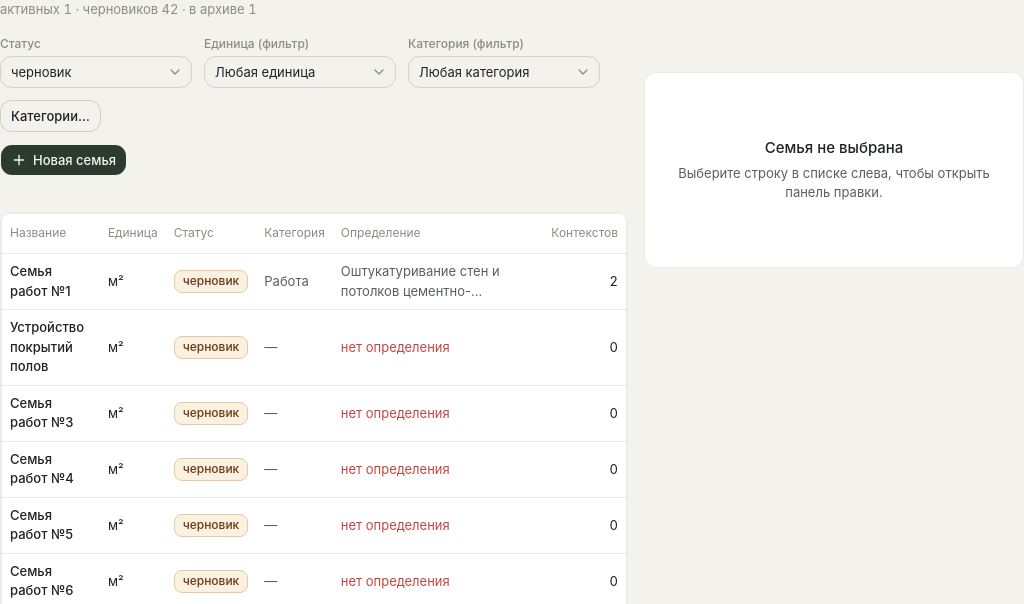
Scenario: FamiliesTab › кнопка активации в панели недоступна без определения, а с определением доступна
Expected: the text "Семья работ №3" is shown, [2, 385, 100, 441]
What coordinates should you click on to do the following:
click the text "Устройство покрытий полов"
I would click on:
 (51, 348)
Its box is [2, 310, 100, 385].
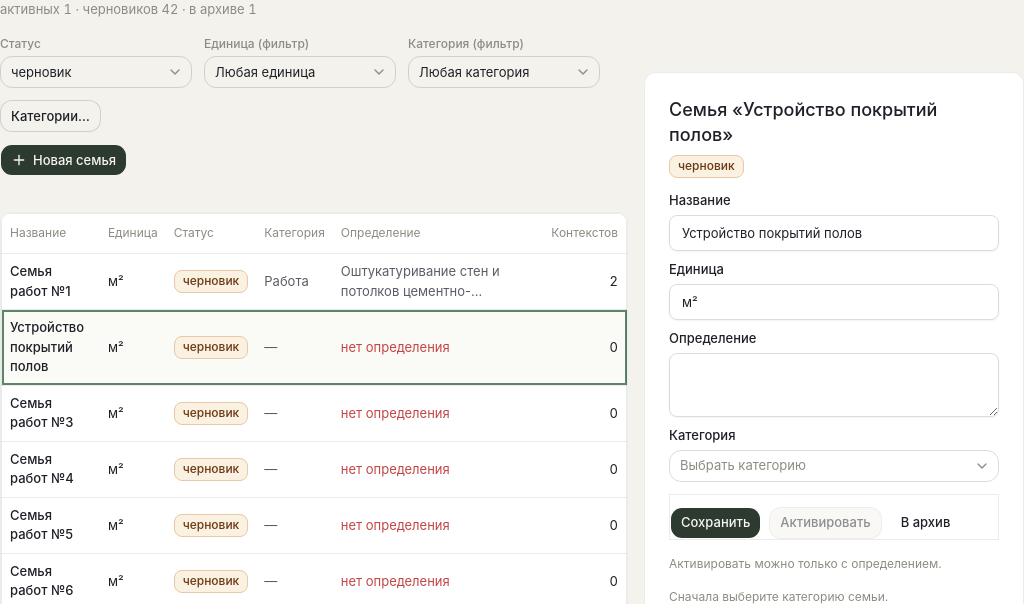
Now the button with aria-label "Активировать семью Устройство покрытий полов" is disabled, box [769, 507, 882, 539]
What coordinates should you click on to do the following:
click the text "Семья работ №1"
I would click on:
 (51, 282)
Its box is [2, 254, 100, 310].
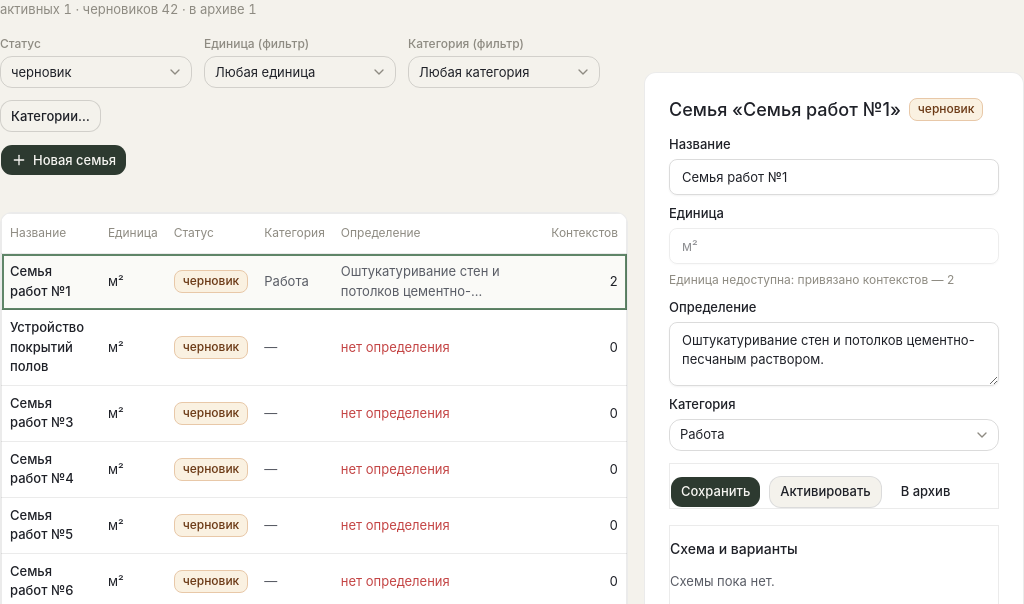
Now the button with aria-label "Активировать семью Семья работ №1" is enabled, box [769, 476, 882, 508]
Now the text "Активировать можно только с определением." is gone
